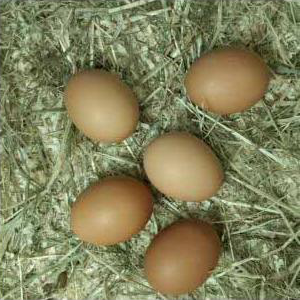egg: (143, 219, 223, 296), (141, 132, 226, 203), (70, 177, 154, 246), (63, 69, 139, 144), (184, 49, 269, 115)
